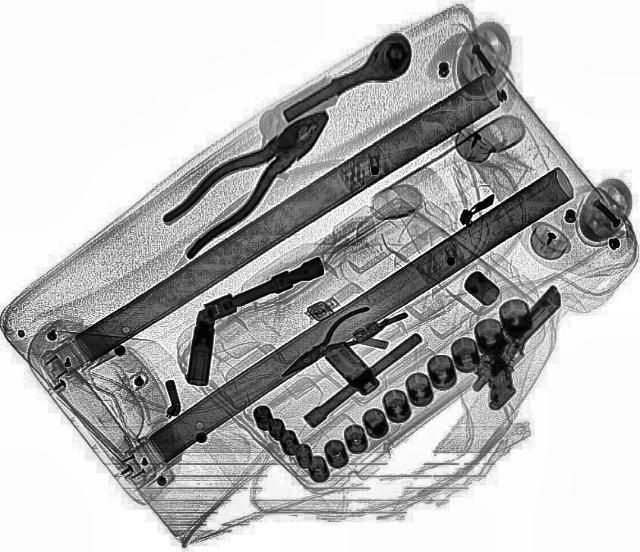Gun: (446, 282, 602, 412)
Pliers: (144, 94, 352, 262), (267, 302, 387, 384)
